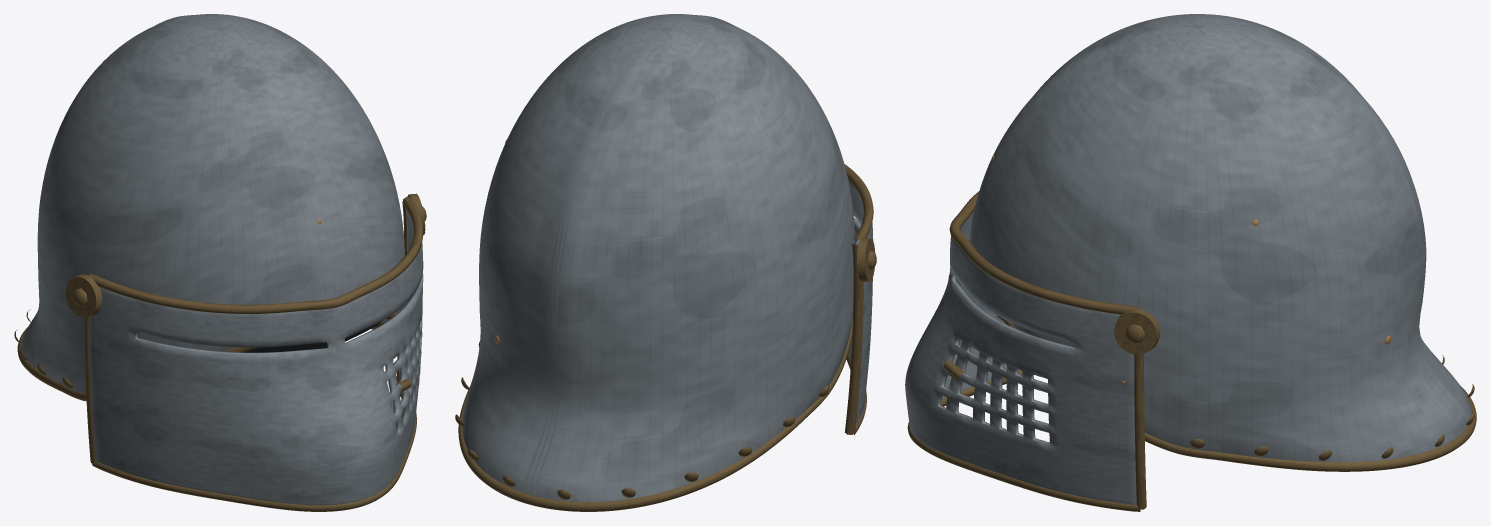
The picture shows the model from 3 angles, left to right: view 1: azimuth 30°, elevation 25°; view 2: azimuth 150°, elevation 25°; view 3: azimuth 270°, elevation 25°; orthographic projection. The views are drawn at different scales.
Visible parts, largest first — view 1: hammered plate, aged alloy edge, recess and lining; view 2: hammered plate, aged alloy edge; view 3: hammered plate, aged alloy edge.
Part boxes in pixels (box(x1,y1,x2,y2)): hammered plate: box(21, 14, 423, 505); aged alloy edge: box(14, 193, 426, 511); recess and lining: box(245, 320, 382, 352); hammered plate: box(462, 14, 873, 501); aged alloy edge: box(455, 164, 876, 511); hammered plate: box(905, 14, 1471, 505); aged alloy edge: box(907, 191, 1476, 511).
Bounding box in the file's own units: 0.2496 × 0.259 × 0.3306.
Materials: 6 (3 with a texture image).
